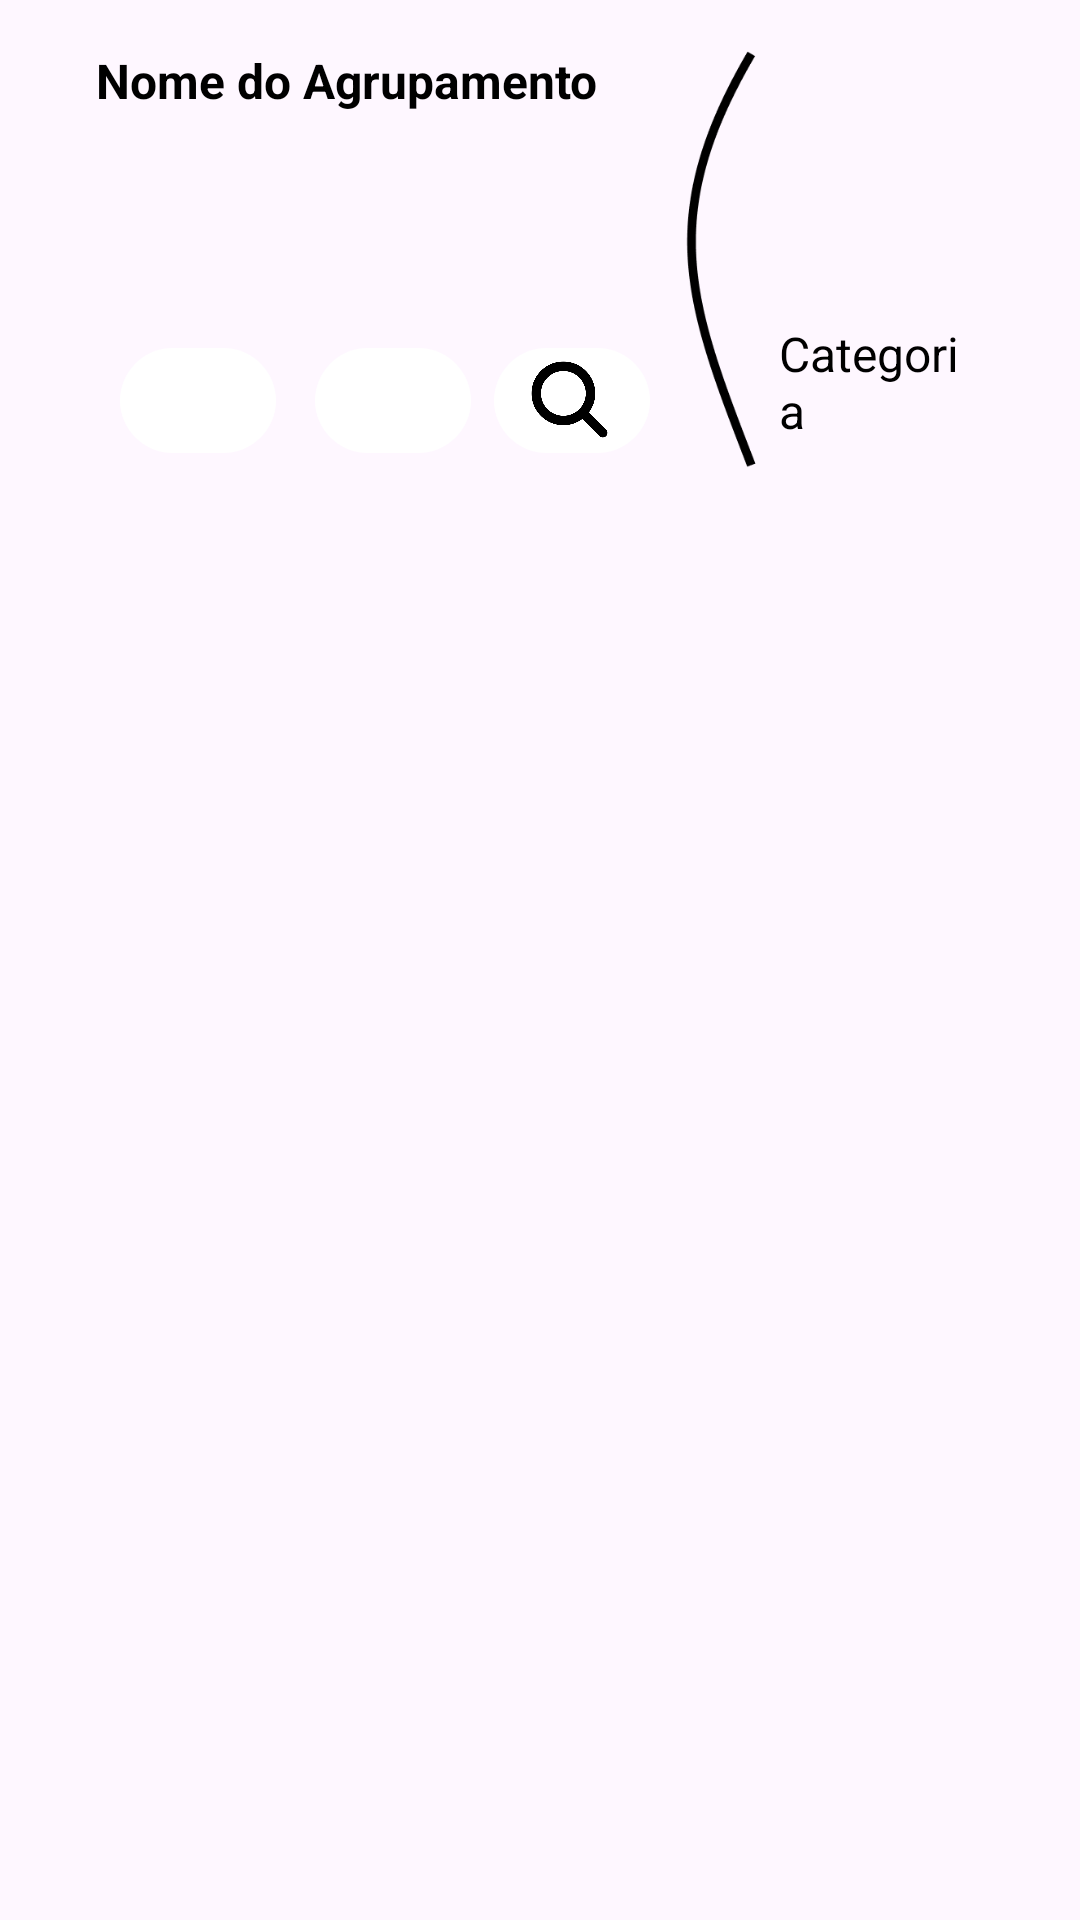

Where to tap for icons on this 1080 x 1920 app screen, as (x,y):
procurar: (569,399)
